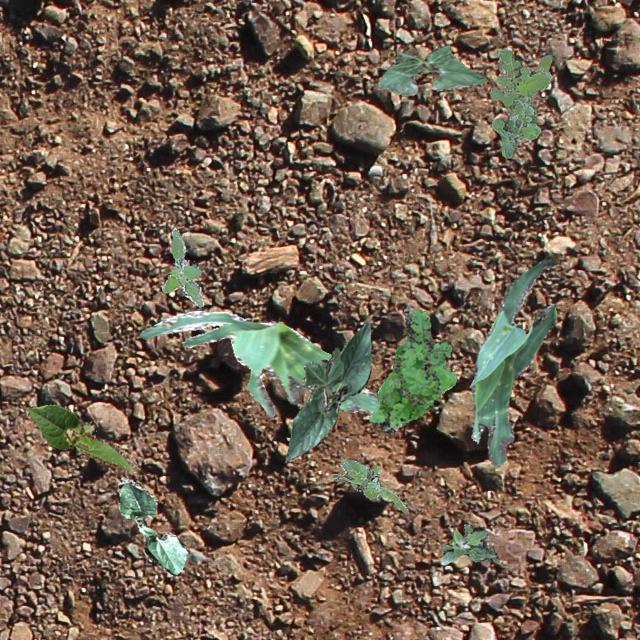crop: (138, 309, 380, 416), (468, 255, 556, 466), (284, 321, 370, 462), (26, 403, 138, 472), (118, 476, 186, 574), (376, 44, 484, 94)
weed: (368, 304, 456, 434), (488, 47, 550, 156), (331, 458, 406, 512), (160, 226, 203, 306), (440, 522, 498, 564)
